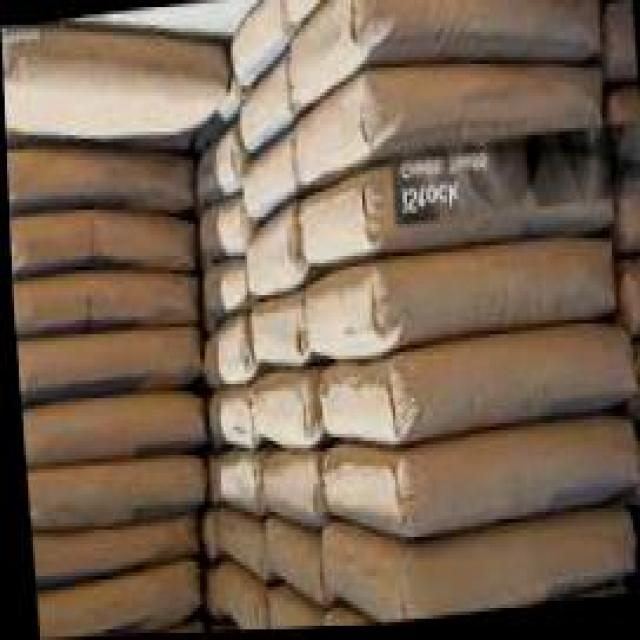gunny_bag: (317, 412, 632, 532), (293, 61, 596, 184), (303, 237, 606, 350), (298, 149, 603, 261), (316, 516, 632, 624), (327, 322, 623, 437), (287, 0, 594, 105), (2, 22, 225, 146), (13, 206, 193, 276), (12, 325, 192, 394), (21, 397, 201, 463), (8, 142, 189, 206), (32, 569, 192, 640), (27, 515, 189, 585), (17, 267, 190, 331), (28, 458, 195, 522), (255, 518, 319, 613), (239, 205, 298, 296), (227, 0, 287, 82), (233, 59, 290, 143), (248, 451, 314, 522), (247, 376, 316, 443), (245, 300, 307, 365), (212, 509, 263, 581), (199, 313, 247, 389), (241, 142, 290, 214), (202, 567, 256, 632), (190, 127, 237, 199), (205, 392, 252, 446), (198, 197, 241, 254), (608, 95, 640, 166), (200, 263, 245, 313), (619, 256, 640, 341), (631, 350, 640, 422)
